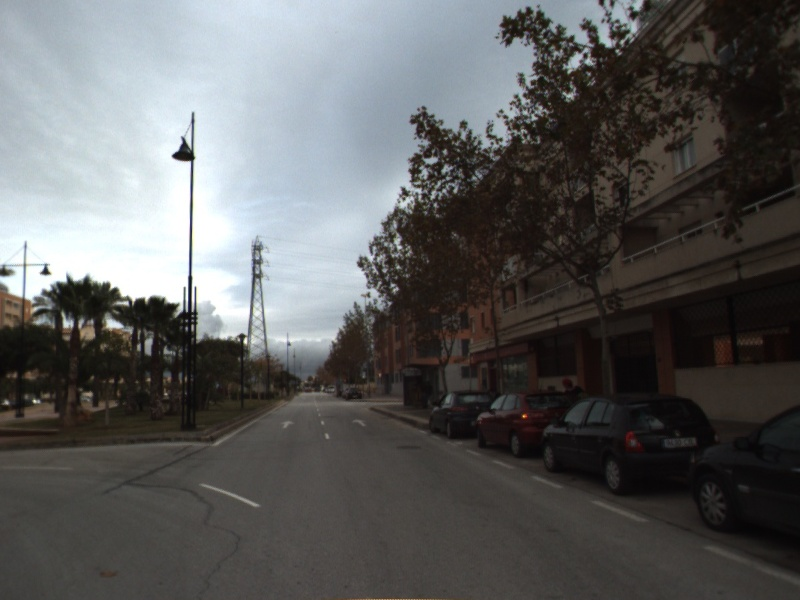STRAIGHT: (350, 416, 369, 428), (279, 418, 297, 430)
